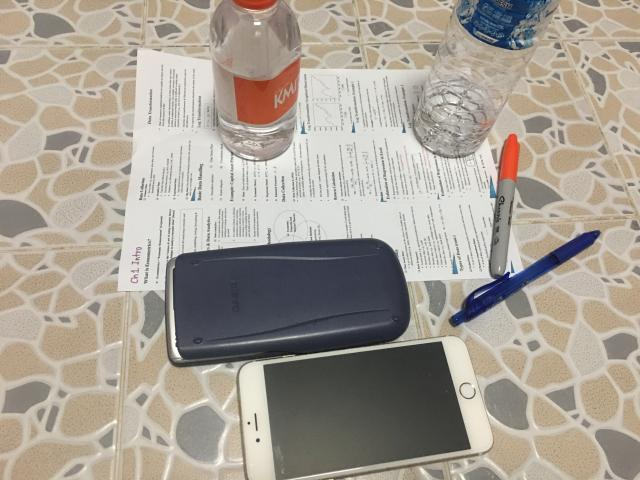Mobile phone: (239, 336, 492, 479)
Pen: (450, 230, 600, 326), (490, 134, 519, 278)
bottle: (414, 0, 559, 158), (210, 0, 301, 160)
paper: (118, 50, 528, 291)
